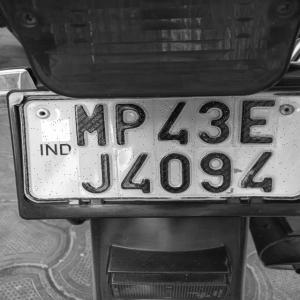Plate: (21, 96, 300, 201)
